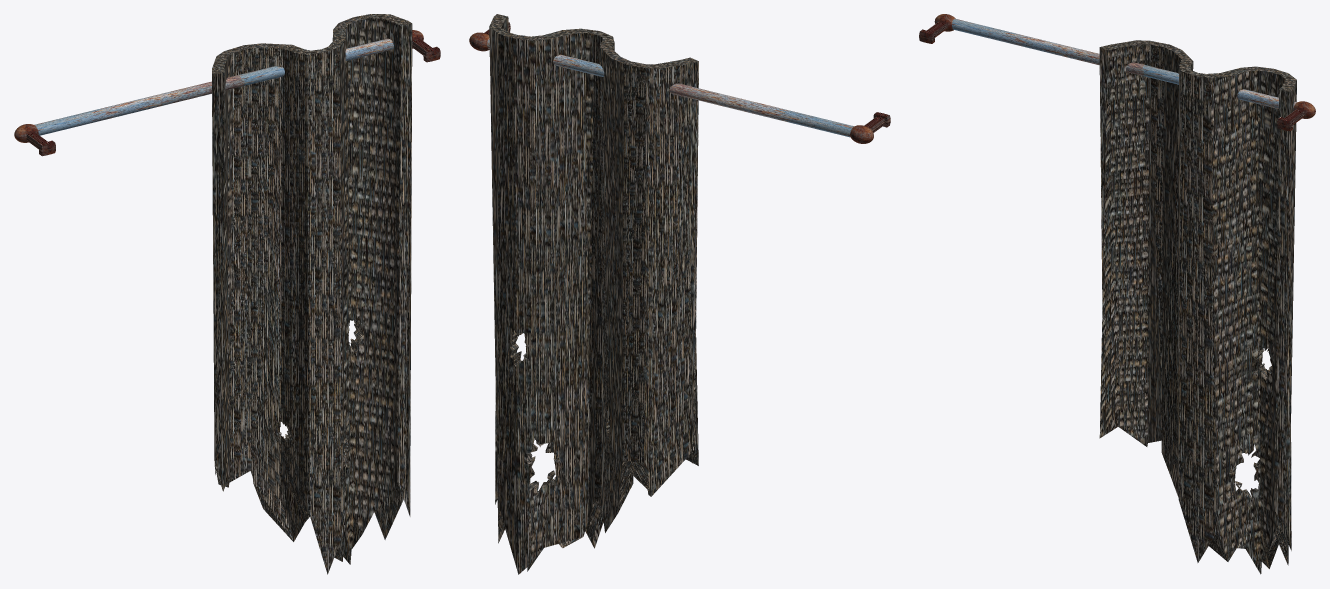
Rendered from Curtains.glb.
3 renders of one model, left to right at view 1: azimuth 30°, elevation 25°; view 2: azimuth 150°, elevation 25°; view 3: azimuth 330°, elevation 25°, orthographic. The views are drawn at different scales.
Parts seen in each view (by area): view 1: curtains; view 2: curtains; view 3: curtains.
Boxes of the visible parts, x1,y1,x2,y2 form: curtains: (14, 14, 440, 574); curtains: (469, 14, 890, 574); curtains: (919, 14, 1315, 574).
Size of the model in its own units: 14.04 by 17.83 by 2.19.
Materials: 3 (3 with a texture image).
